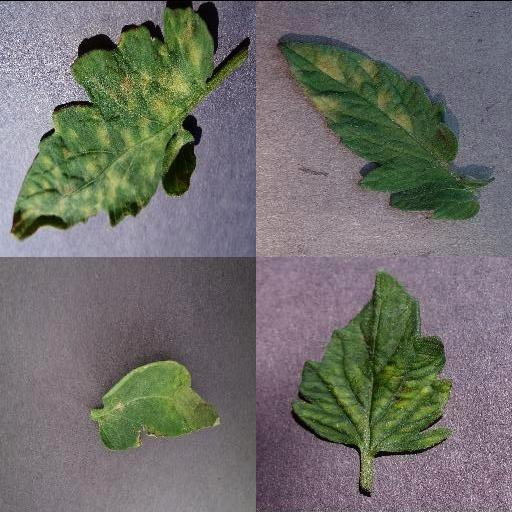Late Blight: (95, 358, 221, 448)
Leaf Mold: (9, 4, 217, 239), (277, 40, 481, 220)
Mosaic Virus: (290, 268, 454, 454)
